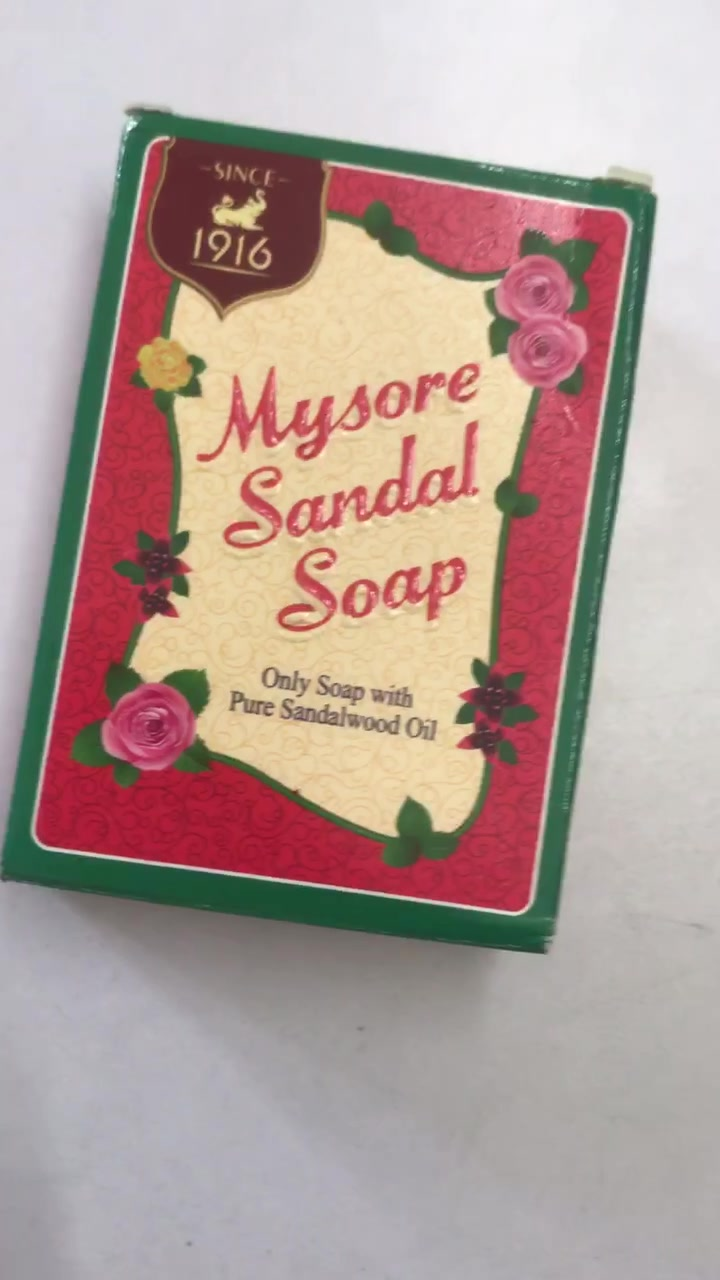mysore sandal soap: (9, 110, 658, 956)
